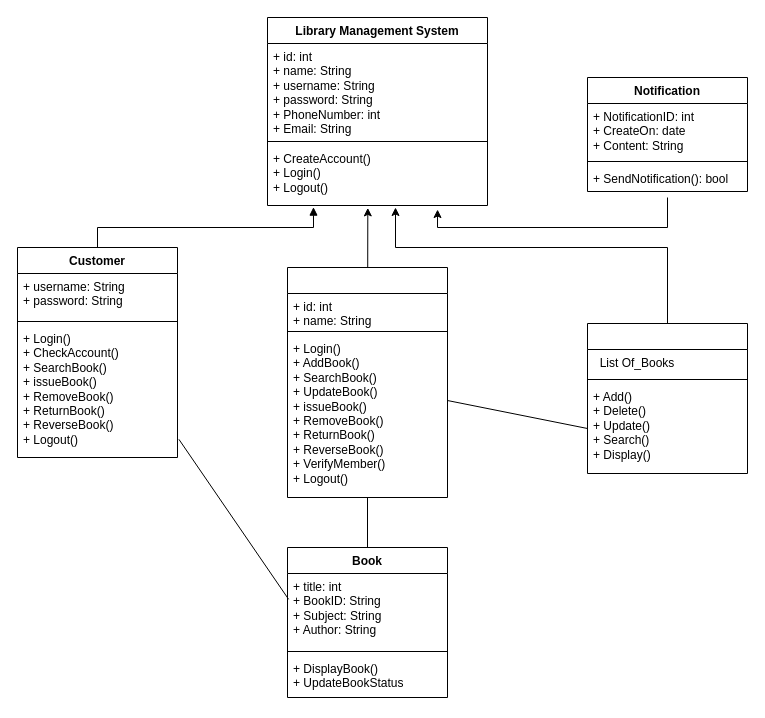
Image size: 765x718. Some labels were removed from this diagram. Each missing label, with the box of its shape:
Librarian: (286, 266, 448, 498)
Library Database: (586, 322, 748, 474)
